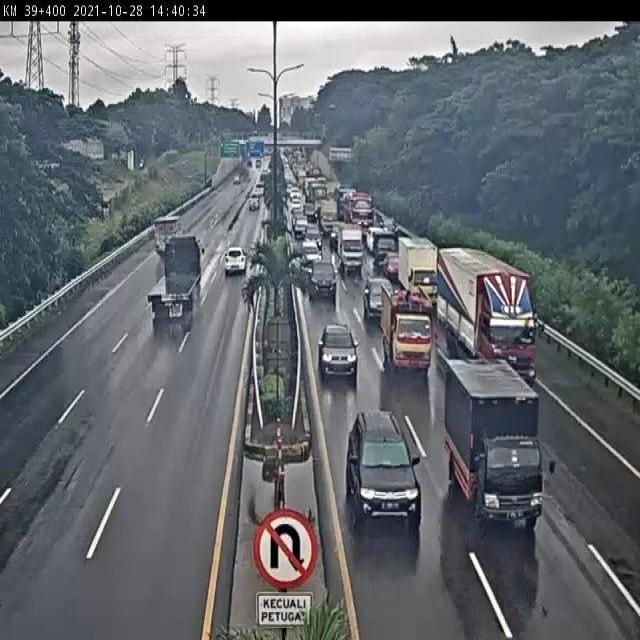big truck: (437, 248, 536, 385), (147, 237, 206, 319)
car: (347, 411, 420, 517), (318, 322, 360, 374), (363, 275, 395, 317), (310, 259, 338, 300), (221, 253, 246, 280)
small truck: (445, 358, 545, 526), (379, 291, 433, 372), (397, 236, 441, 305), (338, 226, 369, 270), (151, 216, 181, 259)
